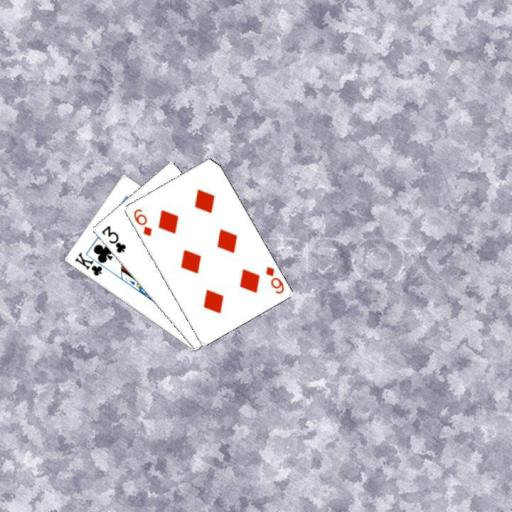3C: (98, 223, 127, 255)
6D: (263, 263, 286, 296), (130, 206, 153, 238)
KC: (71, 249, 110, 277)
